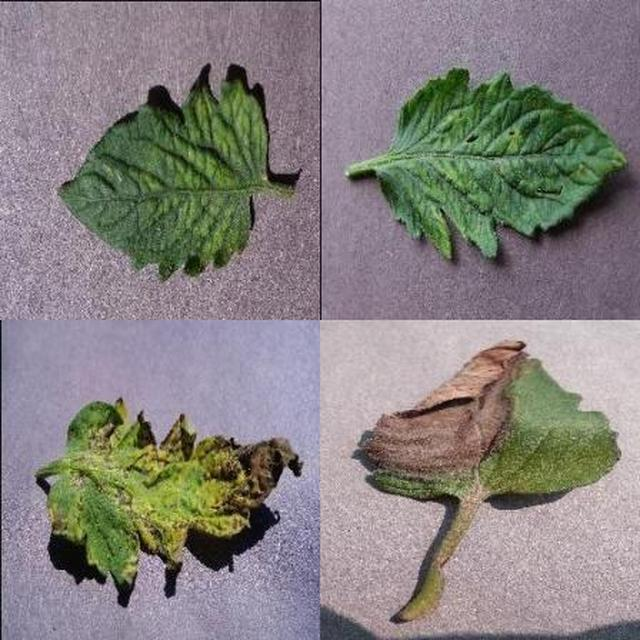Mosaic Virus Leaf: (234, 232, 640, 640)
